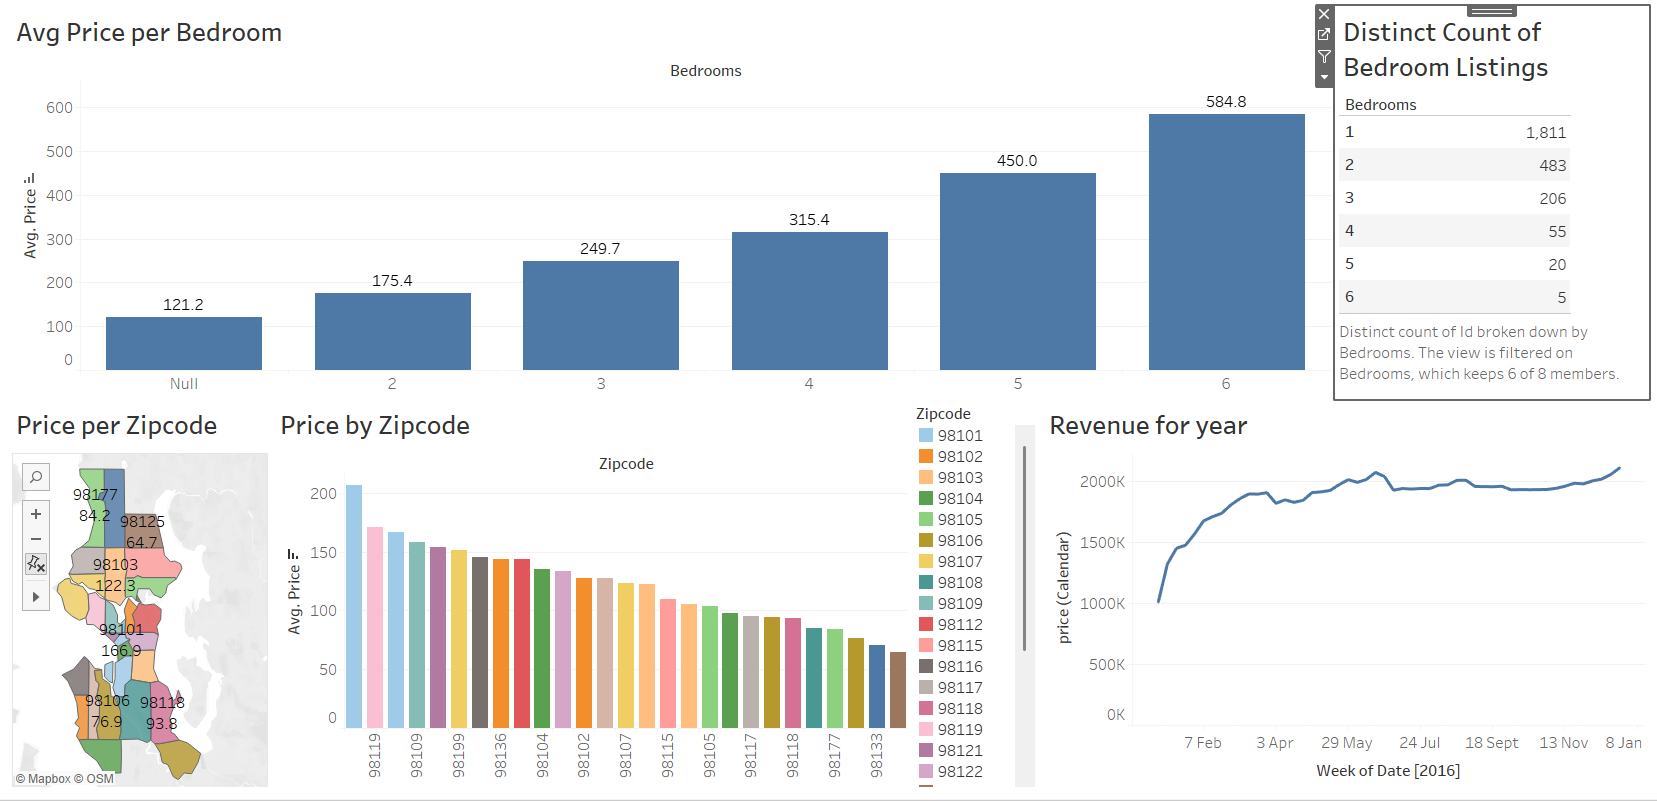

The dashboard page shown, as its layout file describes it:
{"tool":"tableau","page":{"name":"Dashboard 1","canvas":[1000,1000],"units":"permille","ordinal":0},"visuals":[{"type":"worksheet","title":"Sheet 4","mark":"Automatic","rows":["price"],"cols":["bedrooms"],"box":[4.8,10,800.8,490]},{"type":"worksheet","title":"Sheet 5","mark":"Automatic","rows":["bedrooms"],"box":[805.7,10,189.5,490]},{"type":"worksheet","title":"Sheet 2","mark":"Multipolygon","box":[4.8,500,159.3,490]},{"type":"worksheet","title":"Sheet 1","mark":"Automatic","rows":["price"],"cols":["zipcode"],"box":[164.2,500,386.2,490]},{"type":"legend","title":"Sheet 1","param":"[federated.0ml909z1sle6jt1fu97160ofj3yd].[none:zipcode:ok]","box":[550.4,500,77.9,490]},{"type":"worksheet","title":"Sheet 3","mark":"Automatic","rows":["price (Calendar)"],"cols":["date"],"box":[628.2,500,366.9,490]}]}

Visuals, with their boxes on the dashboard's canvas, which has no fixed pixel size, in thousandths of its width and height (x1, y1, x2, y2). These are canvas units, not pixel positions in the 1657x801 screenshot, which may show the page scaled, cropped or inside an application window:
"Sheet 4" worksheet: bbox=(5, 10, 806, 500)
"Sheet 5" worksheet: bbox=(806, 10, 995, 500)
"Sheet 2" worksheet (Multipolygon marks): bbox=(5, 500, 164, 990)
"Sheet 1" worksheet: bbox=(164, 500, 550, 990)
"Sheet 1" legend: bbox=(550, 500, 628, 990)
"Sheet 3" worksheet: bbox=(628, 500, 995, 990)
